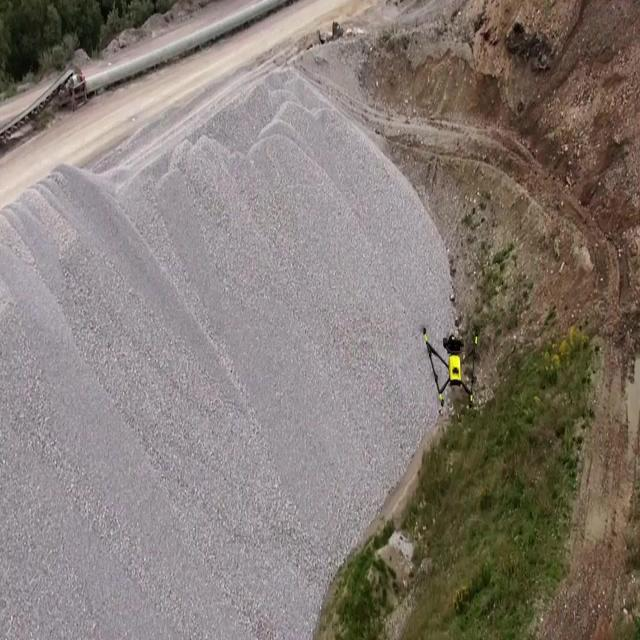UAV: (419, 324, 481, 407)
